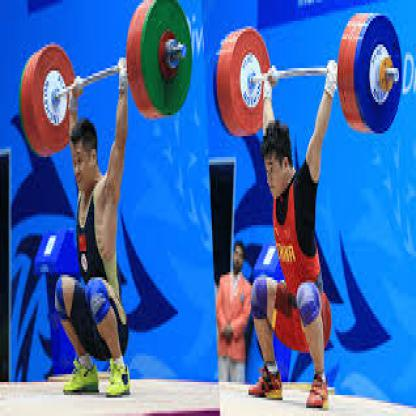Barbell: (123, 0, 199, 123), (210, 19, 274, 145), (17, 40, 81, 162), (352, 5, 408, 139)
